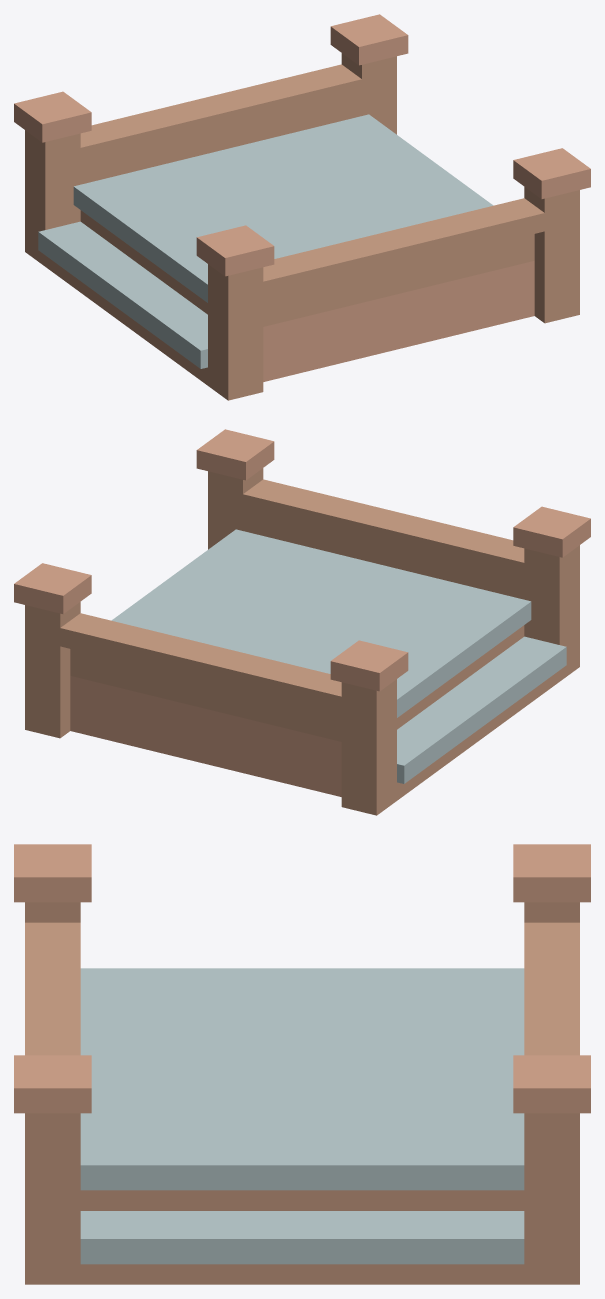
The model's file is bridge_wood.glb.
3 views of the same model, one above another, from view 1: azimuth 30°, elevation 25°; view 2: azimuth 150°, elevation 25°; view 3: azimuth 270°, elevation 25° (orthographic). The views are drawn at different scales.
Visible parts, largest first — view 1: bridge_wood; view 2: bridge_wood; view 3: bridge_wood.
Part boxes in pixels (x1,y1,x2,y2): bridge_wood: (14,14,590,400); bridge_wood: (14,429,590,815); bridge_wood: (14,844,590,1284).
Bounding box in the file's own units: 1.04 × 0.4 × 1.04.
